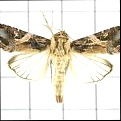Spodoptera litura: (1, 6, 120, 104)
